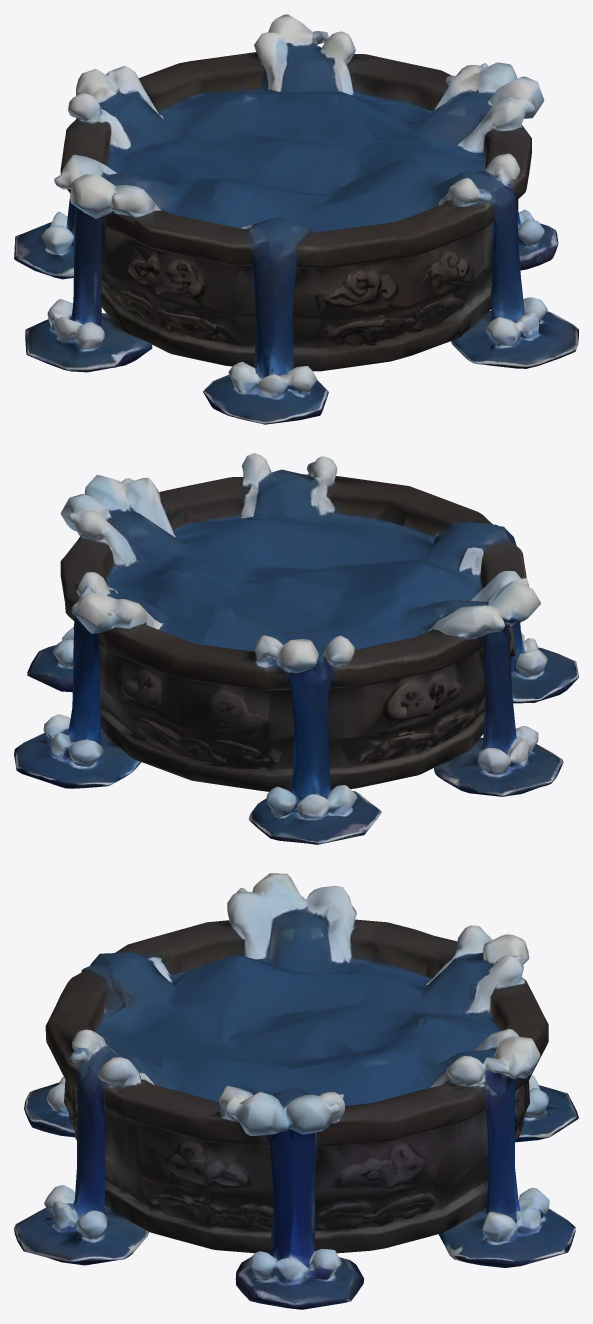
File: water_restrain_t2.glb
The picture shows the model from 3 angles, top to bottom: view 1: azimuth 30°, elevation 25°; view 2: azimuth 150°, elevation 25°; view 3: azimuth 270°, elevation 25°; orthographic projection. The views are drawn at different scales.
Parts seen in each view (by area): view 1: tripo_node_e4697b6b-f680-4e62-89ea-833ed9eefab6; view 2: tripo_node_e4697b6b-f680-4e62-89ea-833ed9eefab6; view 3: tripo_node_e4697b6b-f680-4e62-89ea-833ed9eefab6.
Boxes of the visible parts, <box> form: tripo_node_e4697b6b-f680-4e62-89ea-833ed9eefab6: <box>14,14,578,424</box>; tripo_node_e4697b6b-f680-4e62-89ea-833ed9eefab6: <box>14,453,578,844</box>; tripo_node_e4697b6b-f680-4e62-89ea-833ed9eefab6: <box>14,873,578,1309</box>.
Size of the model in its own units: 0.9996 by 0.3473 by 0.8821.
Materials: 1 (1 with a texture image).
